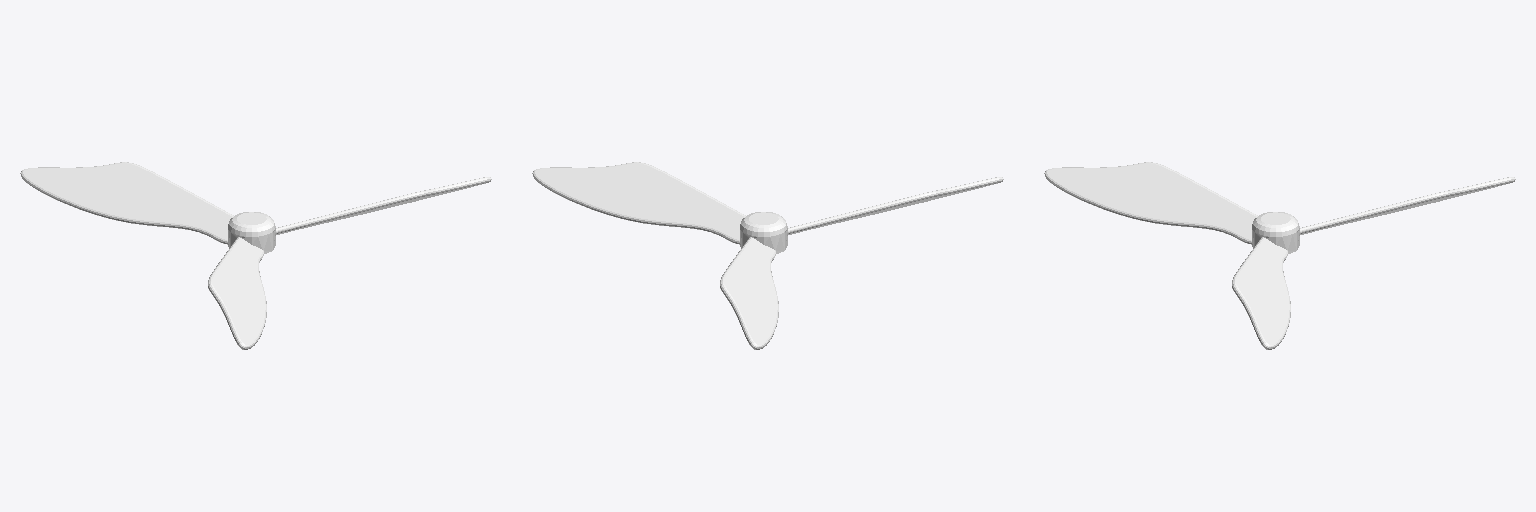
robot.urdf — cw.sldprt:
<robot
  name="cw.sldprt">
  <link
    name="cw.sldprt">
    <inertial>
      <origin
        xyz="1.5597E-06 5.4425E-06 -0.0051821"
        rpy="0 0 0" />
      <mass
        value="0.0095509" />
      <inertia
        ixx="1.02478483992508E-05"
        ixy="2.03637429501837E-09"
        ixz="1.07723867397554E-10"
        iyy="1.02495974224152E-05"
        iyz="1.27587168304593E-10"
        izz="2.02880205105623E-05" />
    </inertial>
    <visual>
      <origin
        xyz="0 0 0"
        rpy="0 0 0" />
      <geometry>
        <mesh
          filename="package://cw.sldprt/meshes/cw.sldprt.STL" />
      </geometry>
      <material
        name="">
        <color
          rgba="1 1 1 1" />
      </material>
    </visual>
    <collision>
      <origin
        xyz="0 0 0"
        rpy="0 0 0" />
      <geometry>
        <mesh
          filename="package://cw.sldprt/meshes/cw.sldprt.STL" />
      </geometry>
    </collision>
  </link>
</robot>

--- Facts derived from the render (not from the file) ---
The picture shows the robot from 3 angles, left to right: view 1: azimuth 30°, elevation 25°; view 2: azimuth 150°, elevation 25°; view 3: azimuth 270°, elevation 25°; orthographic projection.
Model cw.sldprt with 1 links and 0 joints (none), rooted at cw.sldprt, posed all joints at 0.
Links seen in each view (by area): view 1: cw.sldprt; view 2: cw.sldprt; view 3: cw.sldprt.
Boxes of the visible links, bbox=[...] form: cw.sldprt: bbox=[20, 162, 491, 349]; cw.sldprt: bbox=[532, 162, 1003, 349]; cw.sldprt: bbox=[1044, 162, 1515, 349].
Bounding box of the posed robot: 0.1386 × 0.1566 × 0.0322 m (x, y, z).
Meshes: 1 distinct files referenced, 1 mesh visuals loaded (1 binary STL).